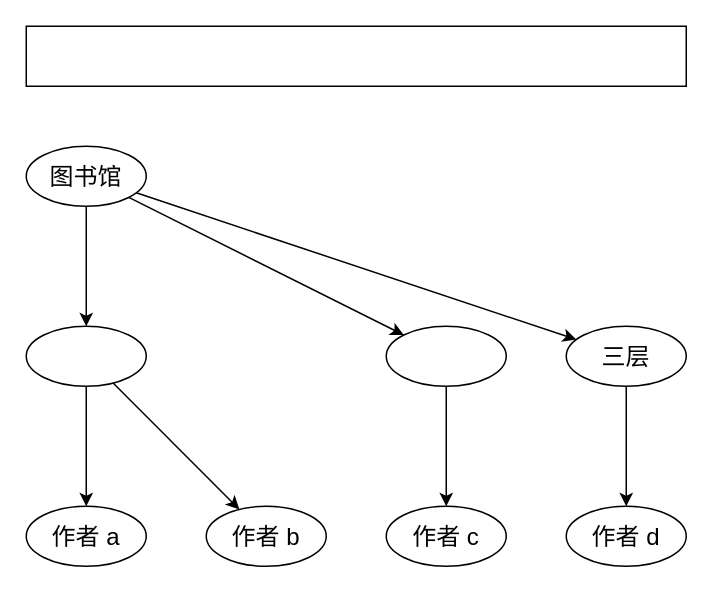
Some shapes in this 713 by 593 pixel diagram are drawn without their labels. The shapes that lost their labels are listed below. From the top down, each one's centre as x and y in pixels, then its label:
At point (355, 55): "4-2、图书馆分层示意图".
At point (85, 355): "一层".
At point (445, 355): "二层".
